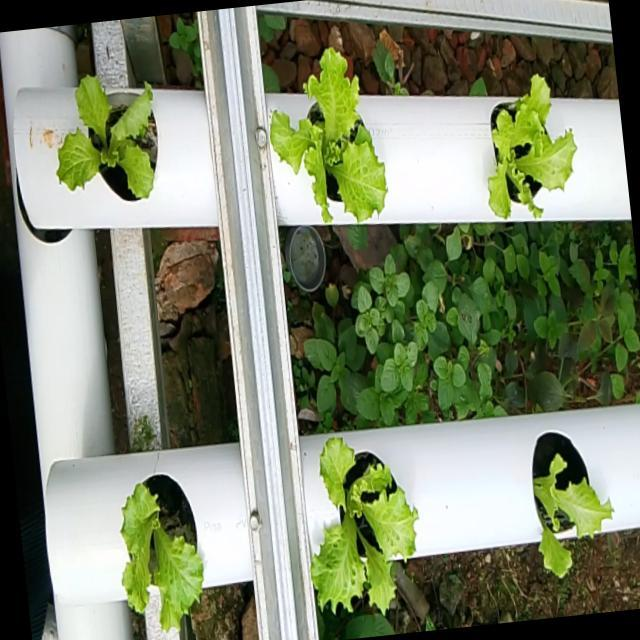Baby: (270, 48, 387, 224), (310, 437, 417, 625), (56, 74, 158, 202), (120, 474, 203, 631), (488, 75, 576, 218), (532, 431, 612, 577)
